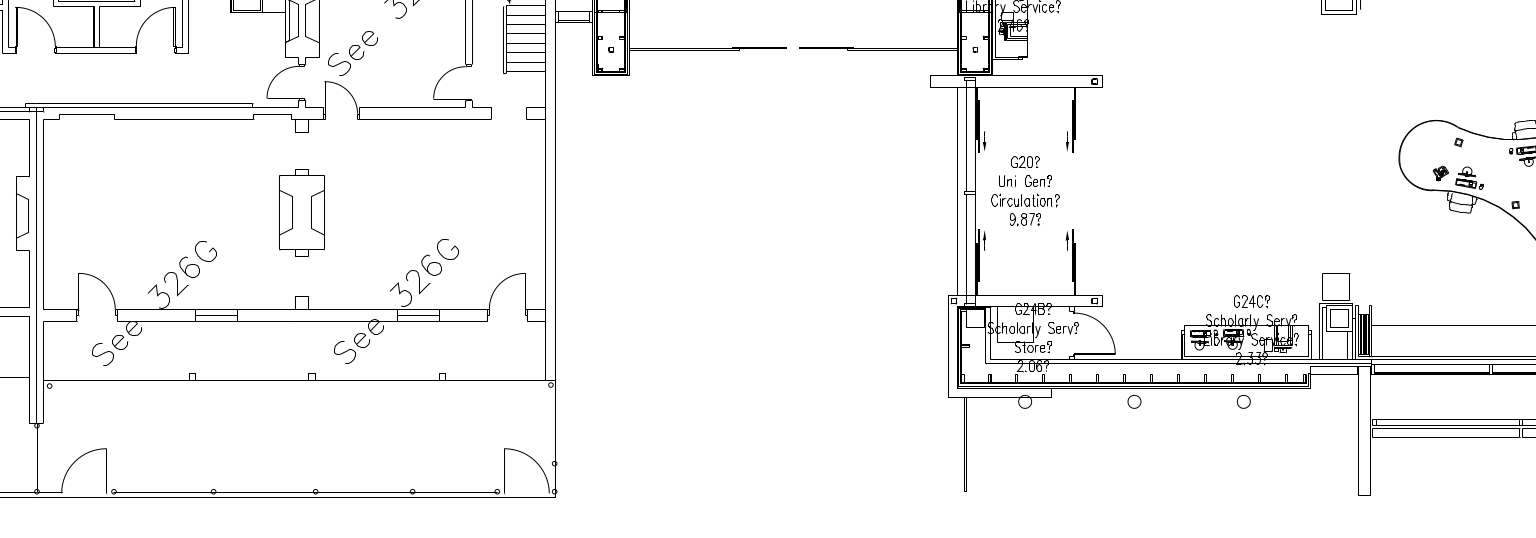door: (57, 444, 113, 498), (496, 442, 552, 496), (128, 1, 179, 59), (9, 1, 60, 58), (479, 263, 531, 312), (415, 56, 467, 105), (323, 72, 362, 124), (257, 63, 301, 104), (72, 268, 117, 308)
